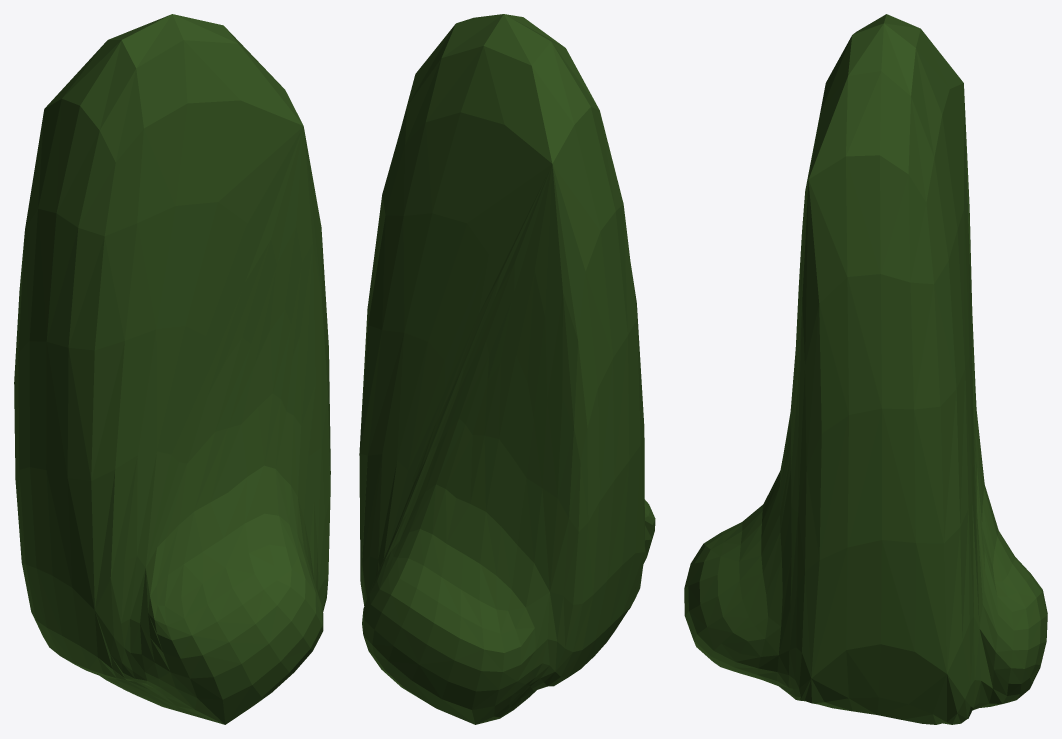
3 views of the same model, side by side, from view 1: azimuth 30°, elevation 25°; view 2: azimuth 150°, elevation 25°; view 3: azimuth 270°, elevation 25° (orthographic). The views are drawn at different scales.
Visible parts, largest first — view 1: 265_Cube.1087; view 2: 265_Cube.1087; view 3: 265_Cube.1087.
Boxes of the visible parts, x1=… form: 265_Cube.1087: x1=14, y1=14, x2=330, y2=724; 265_Cube.1087: x1=359, y1=14, x2=655, y2=724; 265_Cube.1087: x1=684, y1=14, x2=1047, y2=724.
Bounding box in the file's own units: 4.79 × 11.94 × 5.73.
